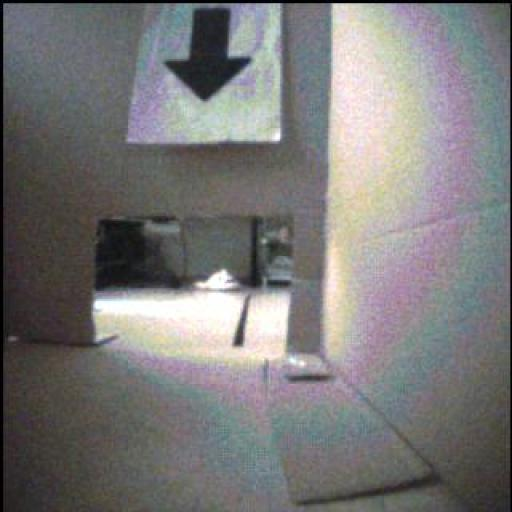arrow: (166, 9, 252, 102)
